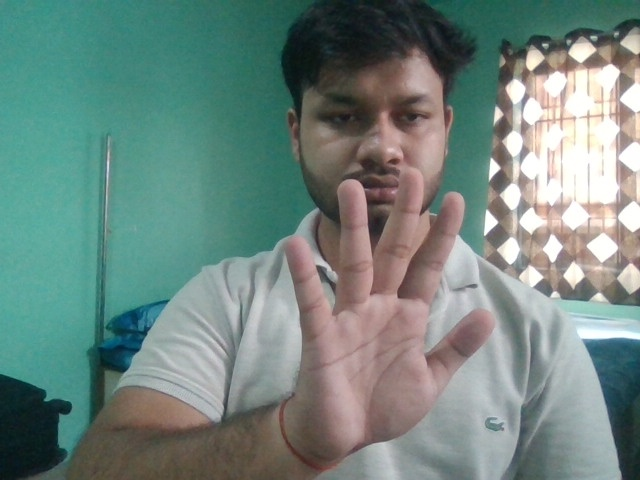Hello: (282, 166, 496, 460)
